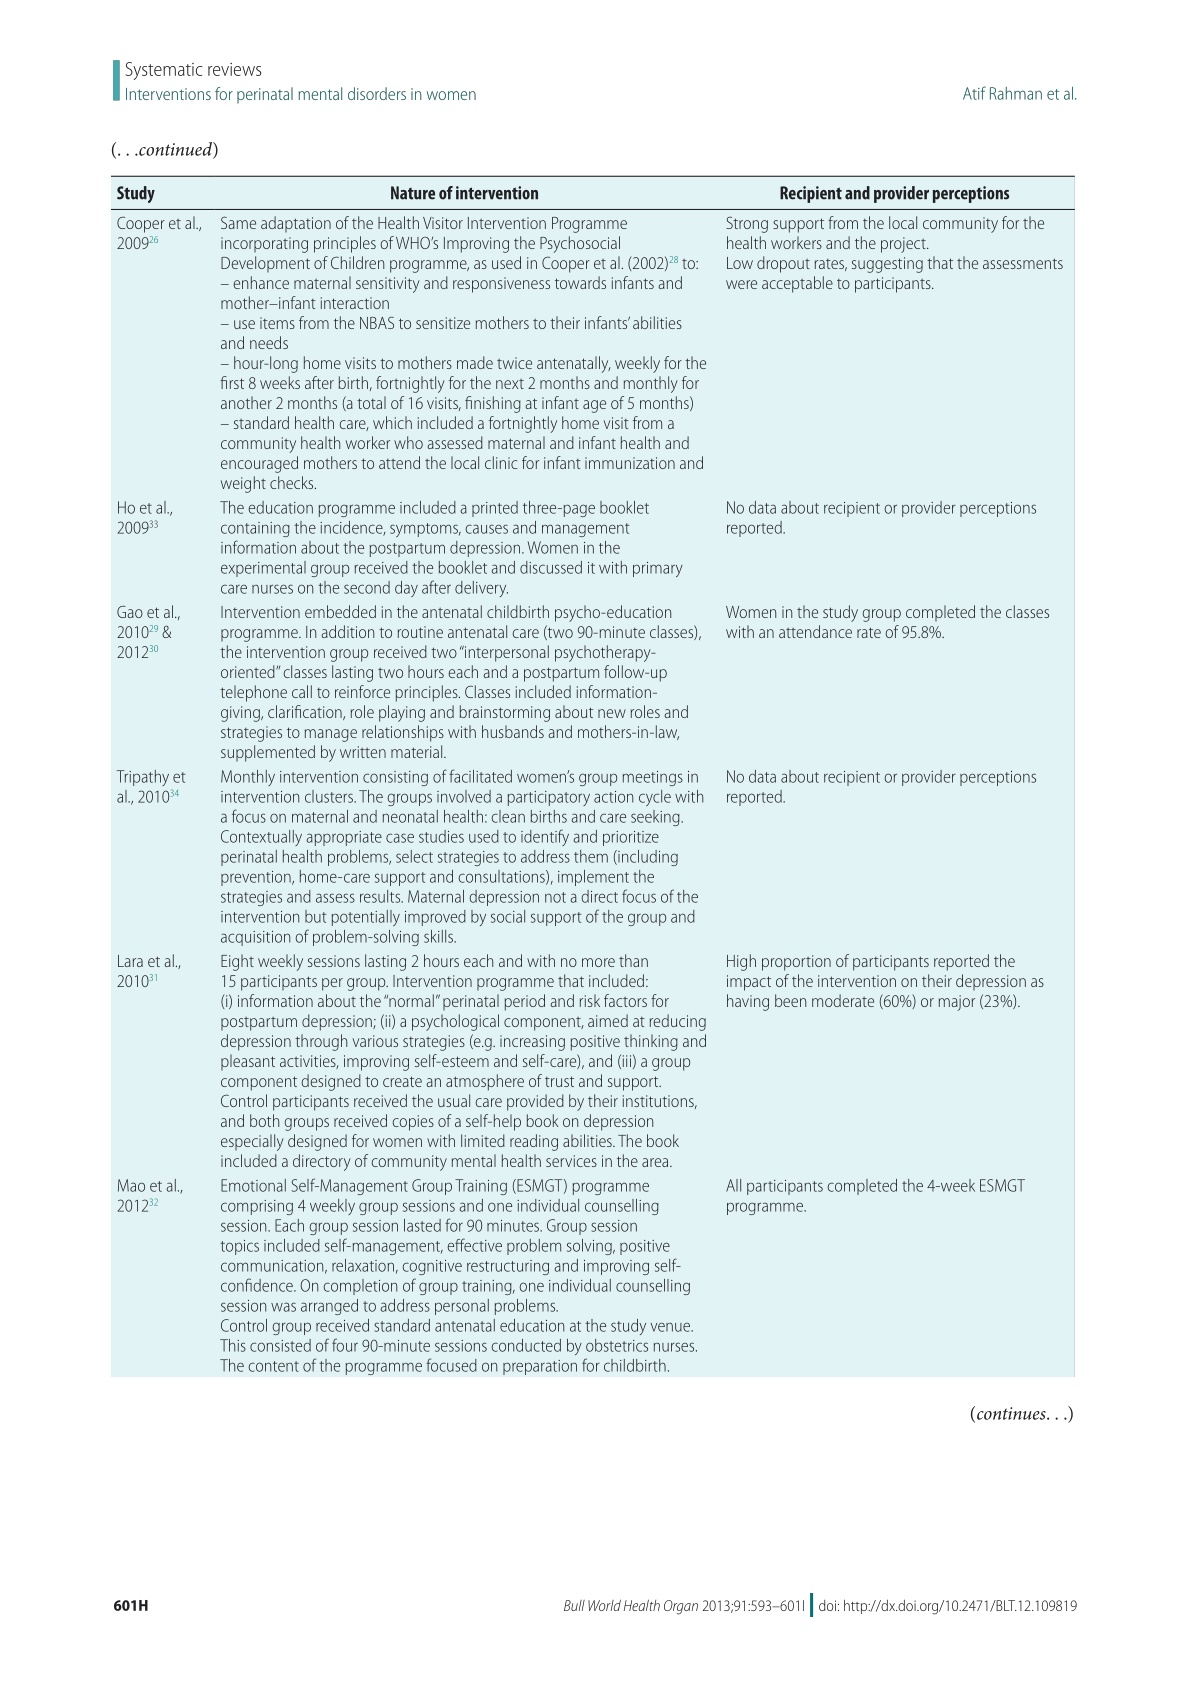partial_lined: (110, 173, 1078, 1384)
